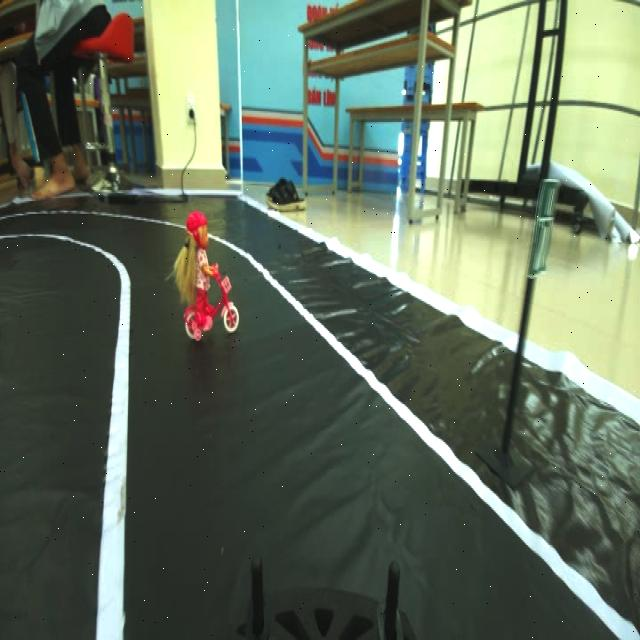highway_entry: (527, 178, 570, 289)
pedestrian: (160, 212, 254, 352)
